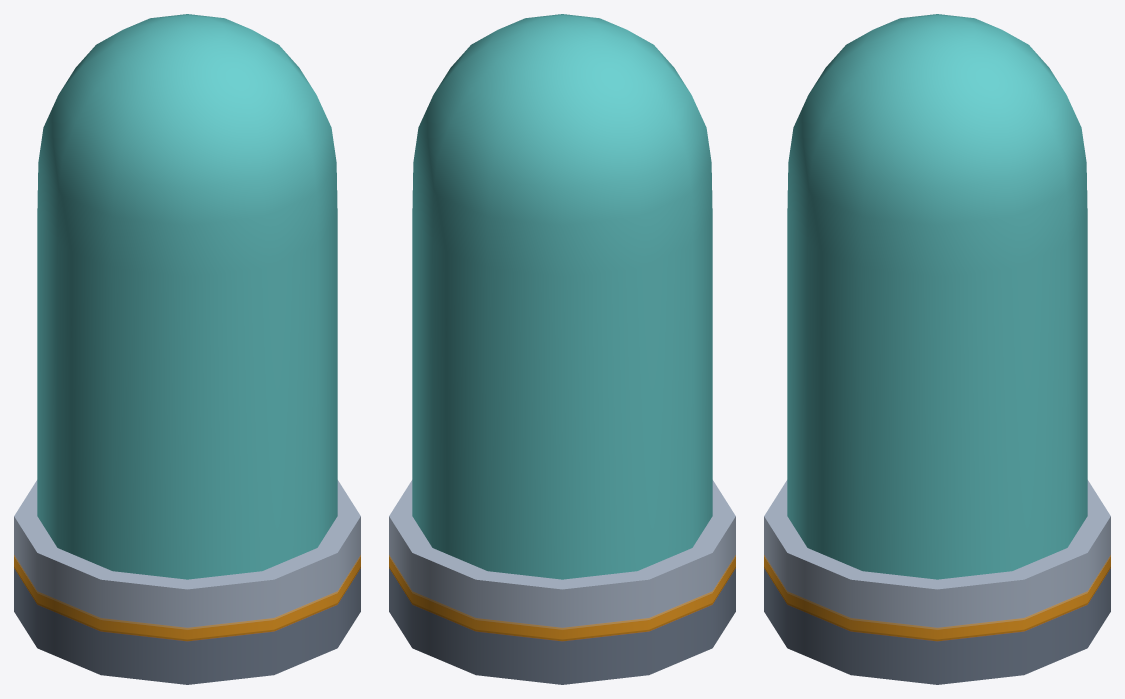
The model's file is Envi6.dae.
3 views of the same model, side by side, from view 1: azimuth 30°, elevation 25°; view 2: azimuth 150°, elevation 25°; view 3: azimuth 270°, elevation 25° (orthographic).
Visible parts, largest first — view 1: Sphere.014; view 2: Sphere.014; view 3: Sphere.014.
Part boxes in pixels (x1,y1,x2,y2): Sphere.014: (14,14,360,684); Sphere.014: (389,14,735,684); Sphere.014: (764,14,1110,684).
Bounding box in the file's own units: 1.19 × 1.19 × 2.22.
